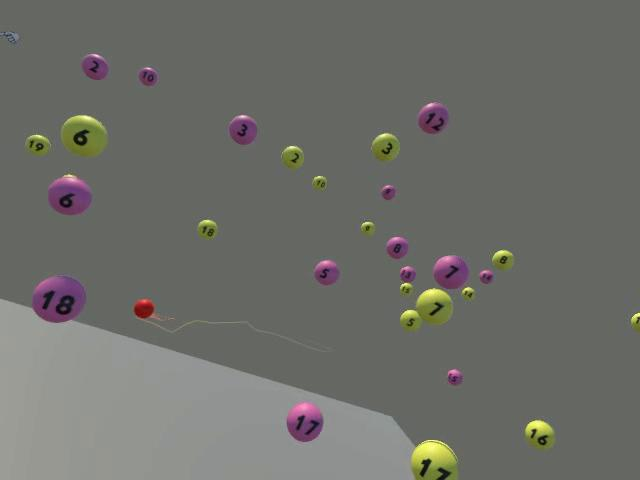ball_02_pink: (81, 53, 108, 80)
ball_02_yellow: (279, 146, 303, 168)
ball_03_pink: (228, 114, 257, 144)
ball_03_yellow: (371, 132, 399, 161)
ball_05_pink: (314, 260, 339, 285)
ball_05_yellow: (399, 310, 419, 330)
ball_06_pink: (47, 174, 91, 214)
ball_06_yellow: (60, 114, 107, 156)
ball_07_pink: (432, 254, 468, 289)
ball_07_yellow: (415, 287, 453, 326)
ball_08_pink: (386, 236, 408, 258)
ball_08_yellow: (492, 249, 513, 270)
ball_09_pink: (380, 184, 395, 200)
ball_09_yellow: (360, 221, 375, 235)
ball_10_pink: (138, 66, 157, 86)
ball_10_yellow: (312, 176, 327, 190)
ball_12_pink: (417, 101, 448, 133)
ball_13_pink: (399, 265, 415, 282)
ball_14_pink: (478, 269, 493, 284)
ball_14_yellow: (461, 286, 474, 300)
ball_15_pink: (446, 370, 462, 384)
ball_15_yellow: (399, 282, 412, 295)
ball_16_yellow: (524, 419, 555, 449)
ball_17_pink: (286, 402, 324, 442)
ball_18_pink: (31, 274, 86, 323)
ball_18_yellow: (197, 219, 217, 239)
ball_19_yellow: (24, 134, 51, 156)
ball_unknown: (410, 439, 457, 478), (630, 313, 639, 332)
user_cursor: (133, 298, 154, 318)
